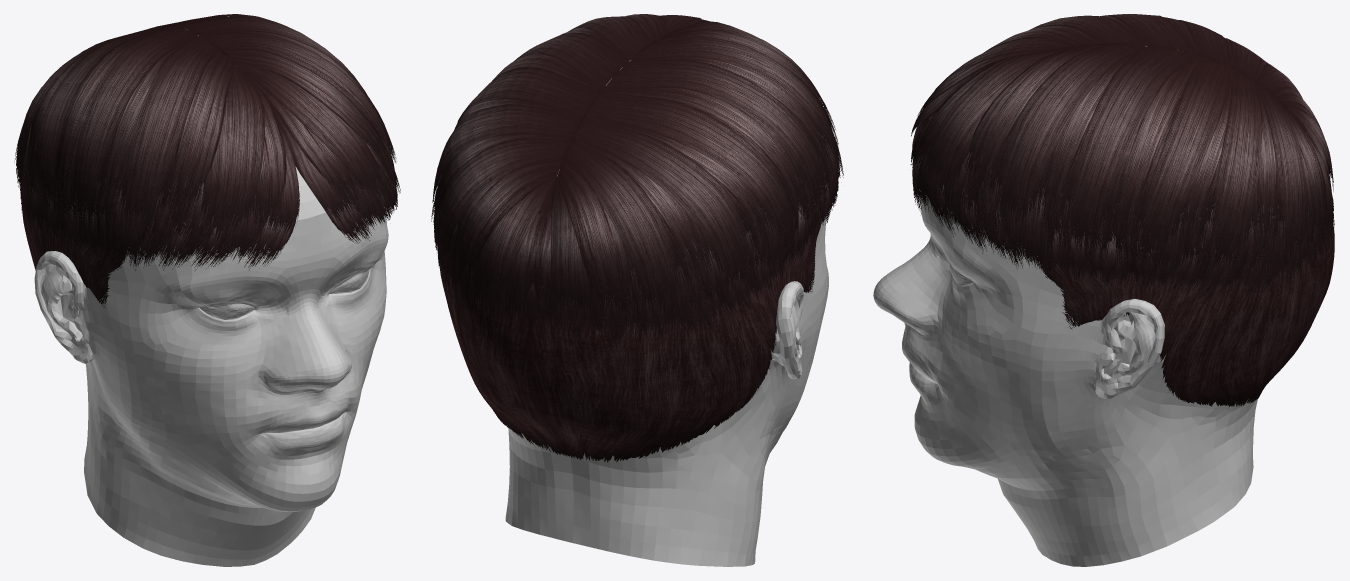
The model's file is Daniel_pivot.FBX.
3 renders of one model, left to right at view 1: azimuth 30°, elevation 25°; view 2: azimuth 150°, elevation 25°; view 3: azimuth 270°, elevation 25°, orthographic. The views are drawn at different scales.
Visible parts, largest first — view 1: VIFS002, VIFS001; view 2: VIFS001, VIFS002; view 3: VIFS001, VIFS002.
Boxes of the visible parts, bbox=[...] form: VIFS002: bbox=[34, 29, 388, 566]; VIFS001: bbox=[14, 14, 400, 308]; VIFS001: bbox=[431, 14, 843, 462]; VIFS002: bbox=[505, 60, 828, 566]; VIFS001: bbox=[910, 14, 1334, 406]; VIFS002: bbox=[873, 46, 1257, 566].
Size of the model in its own units: 194 by 287 by 239.
